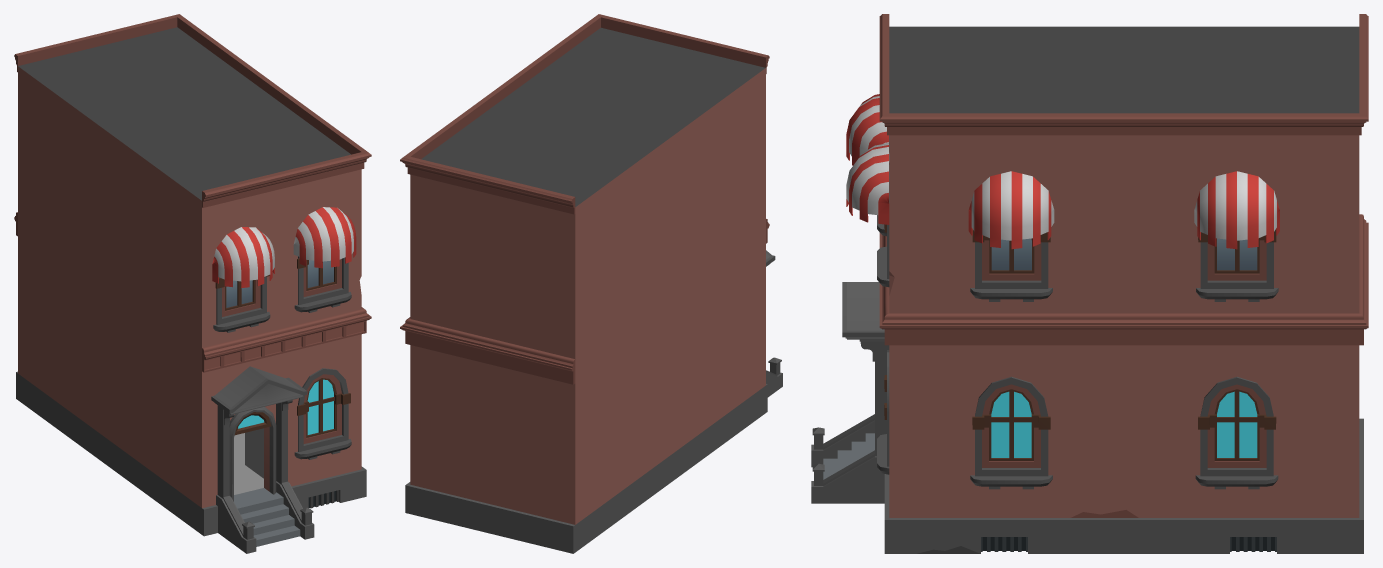
Rendered from SM_Buildings_House_02_V4.fbx.
3 renders of one model, left to right at view 1: azimuth 30°, elevation 25°; view 2: azimuth 150°, elevation 25°; view 3: azimuth 270°, elevation 25°, orthographic. The views are drawn at different scales.
Visible parts, largest first — view 1: SM_Buildings_House_02_V4; view 2: SM_Buildings_House_02_V4; view 3: SM_Buildings_House_02_V4.
Boxes of the visible parts, x1=… form: SM_Buildings_House_02_V4: x1=14, y1=14, x2=371, y2=553; SM_Buildings_House_02_V4: x1=400, y1=14, x2=782, y2=553; SM_Buildings_House_02_V4: x1=811, y1=14, x2=1368, y2=553.
Bounding box in the file's own units: 5.91 × 10.3 × 11.86.
